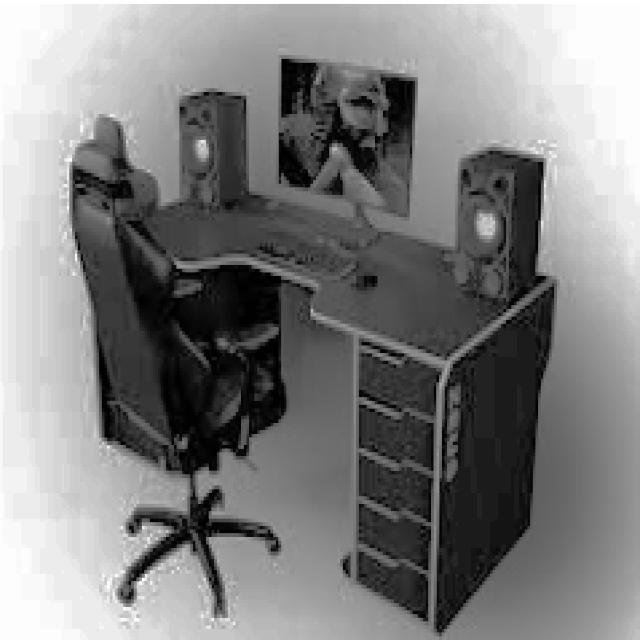book: (33, 139, 308, 636)
paper: (454, 130, 561, 324), (176, 50, 250, 220)
table: (145, 162, 559, 632)
